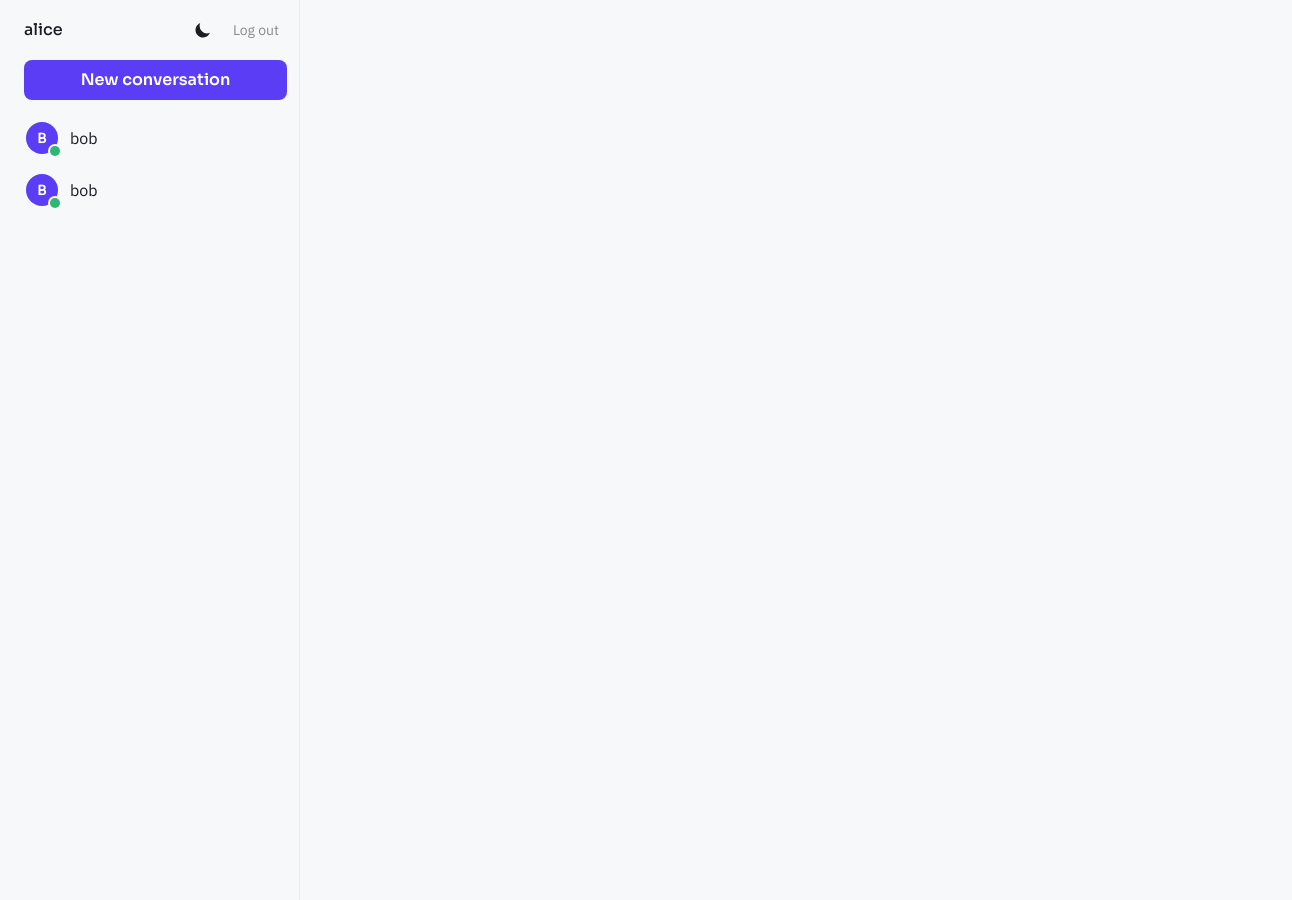
Scenario: ChatPage typing events › shows a typing event for the active conversation
What coordinates should you click on to do the following:
click the 1st button "B bob"
I would click on:
 (42, 138)
Its box is [12, 112, 299, 164].
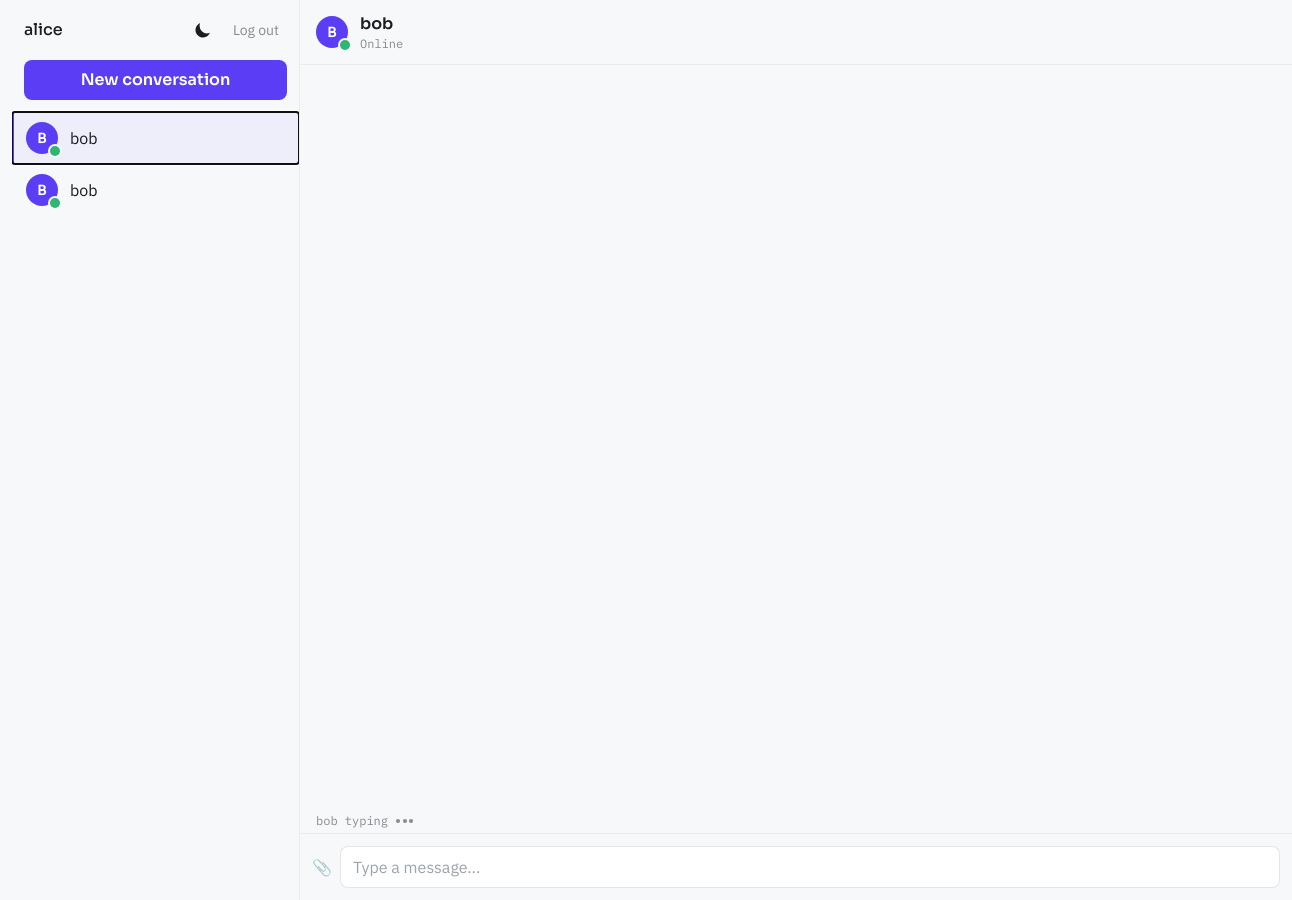
Expected: the text "bob typing" is shown, [316, 813, 413, 828]
